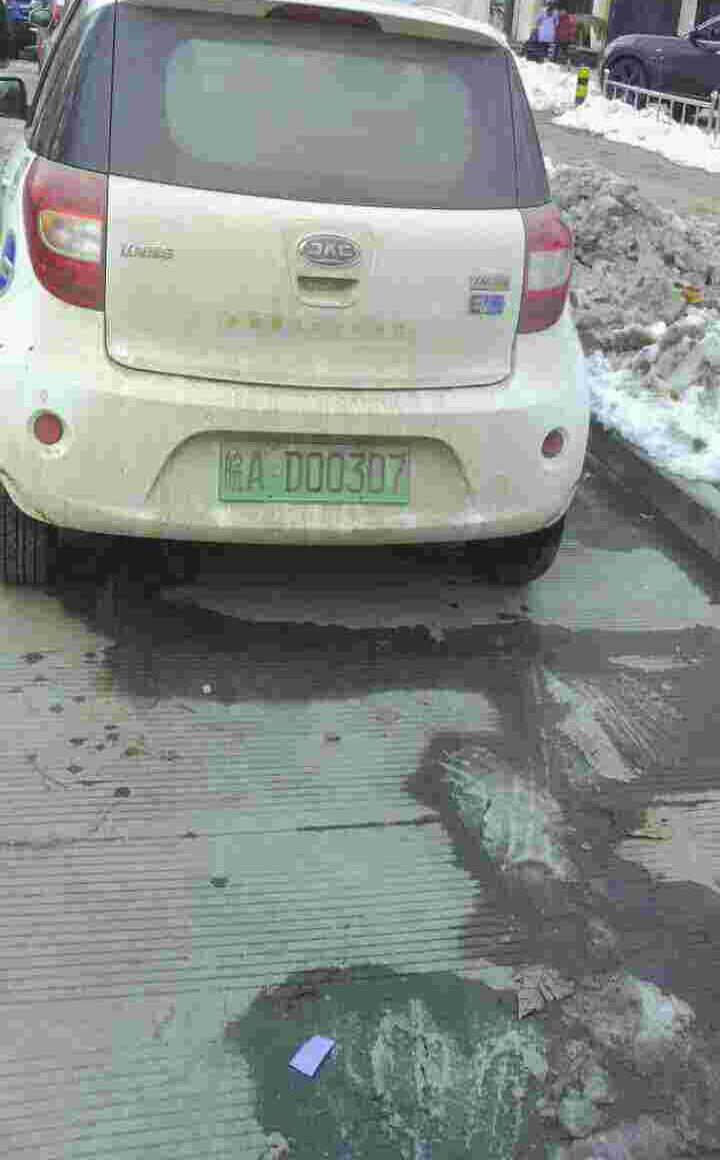car_green: (213, 436, 415, 507)
